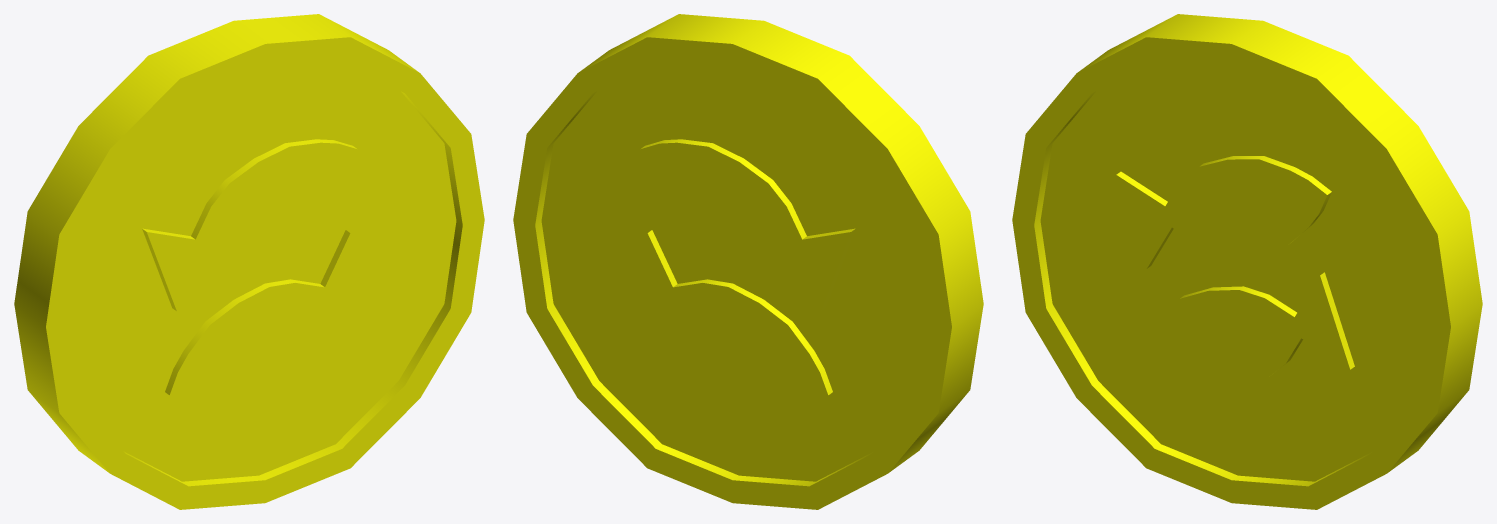
The model's file is 10 coin.obj.
3 views of the same model, side by side, from view 1: azimuth 30°, elevation 25°; view 2: azimuth 150°, elevation 25°; view 3: azimuth 330°, elevation 25° (orthographic).
Parts seen in each view (by area): view 1: Cylinder, Plane.001, Plane; view 2: Cylinder, Plane.001, Plane; view 3: Cylinder, Plane.001, Plane.
Boxes of the visible parts, bbox=[...] form: Cylinder: bbox=[14, 14, 484, 509]; Plane.001: bbox=[165, 230, 380, 401]; Plane: bbox=[142, 139, 357, 311]; Cylinder: bbox=[513, 14, 983, 509]; Plane.001: bbox=[617, 230, 832, 401]; Plane: bbox=[640, 139, 855, 311]; Cylinder: bbox=[1012, 14, 1482, 509]; Plane.001: bbox=[1139, 272, 1354, 385]; Plane: bbox=[1116, 156, 1331, 268].
Size of the model in its own units: 2.5 by 2.5 by 0.3125.
